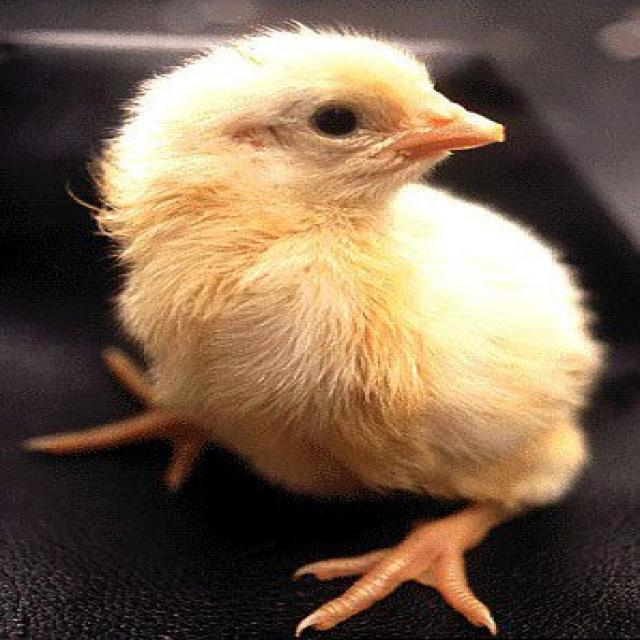poussin: (60, 20, 598, 634)
